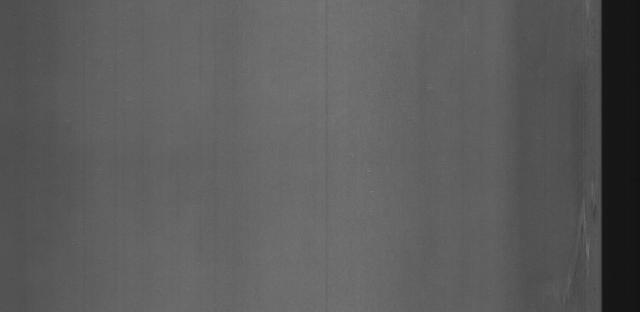silk_spot: (556, 183, 600, 276)
